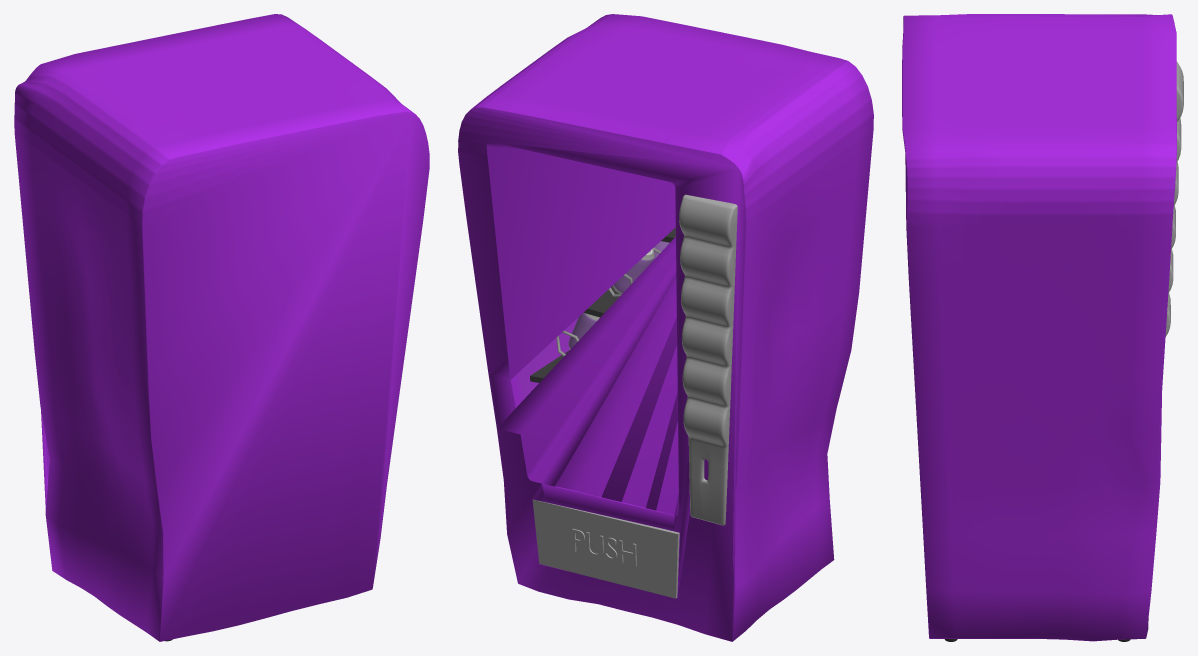
The model's file is distrubuteur.fbx.
The picture shows the model from 3 angles, left to right: view 1: azimuth 30°, elevation 25°; view 2: azimuth 150°, elevation 25°; view 3: azimuth 270°, elevation 25°; orthographic projection. The views are drawn at different scales.
Parts seen in each view (by area): view 1: Cube; view 2: Cube, Plane.001, push, Plane.004; view 3: Cube, Plane.001.
Boxes of the visible parts, x1,y1,x2,y2 form: Cube: (14, 14, 429, 641); Cube: (458, 14, 873, 641); Plane.001: (679, 194, 737, 525); push: (532, 499, 679, 598); Plane.004: (530, 227, 675, 382); Cube: (902, 14, 1176, 641); Plane.001: (1165, 61, 1183, 336).
Size of the model in its own units: 227 by 376 by 183.
